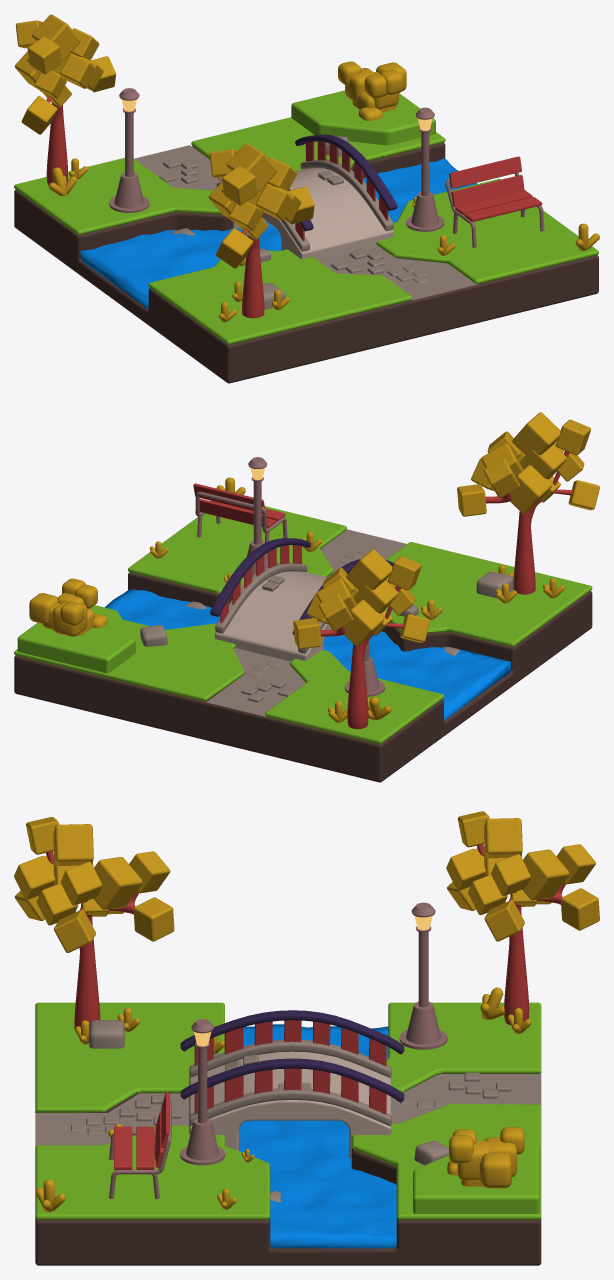
File: SunnyPark.glb
3 views of the same model, one above another, from view 1: azimuth 30°, elevation 25°; view 2: azimuth 150°, elevation 25°; view 3: azimuth 270°, elevation 25° (orthographic). The views are drawn at different scales.
Parts seen in each view (by area): view 1: Grass.001, Ground, Plane.004, Bridge, Plane, Grass.002, Bench, Bush.002, Lamp.001, Lamp, Plane.003, Tree (+21 smaller); view 2: Grass.001, Ground, Plane.004, Bridge, Plane, Grass.002, Bush.002, Tree, Tree.001, Bench, Plane.001, Cube.014 (+22 smaller); view 3: Grass.001, Ground, Plane.004, Plane, Bridge, Grass.002, Plane.002, Plane.001, Plane.003, Bush.002, Lamp.001, Lamp (+26 smaller).
Part boxes in pixels (x1,y1,x2,y2): Grass.001: [14, 117, 598, 344]; Ground: [14, 143, 598, 383]; Plane.004: [80, 158, 477, 309]; Bridge: [232, 168, 393, 259]; Plane: [134, 145, 479, 300]; Grass.002: [291, 90, 435, 145]; Bench: [449, 156, 542, 221]; Bush.002: [338, 61, 406, 120]; Lamp.001: [109, 88, 149, 212]; Lamp: [406, 107, 444, 231]; Plane.003: [216, 159, 393, 251]; Tree: [241, 210, 264, 318]; Grass.001: [14, 506, 592, 744]; Ground: [14, 572, 592, 782]; Plane.004: [105, 589, 510, 720]; Bridge: [215, 571, 331, 661]; Plane: [207, 529, 406, 717]; Grass.002: [17, 605, 135, 673]; Bush.002: [29, 578, 107, 636]; Tree: [485, 451, 572, 594]; Tree.001: [320, 586, 404, 729]; Bench: [193, 483, 285, 528]; Plane.001: [210, 538, 393, 634]; Cube.014: [512, 412, 560, 455]; Grass.001: [35, 1002, 541, 1219]; Ground: [35, 1093, 541, 1265]; Plane.004: [239, 1024, 396, 1248]; Plane: [35, 1072, 541, 1146]; Bridge: [189, 1051, 391, 1158]; Grass.002: [413, 1144, 539, 1213]; Plane.002: [194, 1020, 386, 1114]; Plane.001: [180, 1010, 404, 1102]; Plane.003: [189, 1040, 391, 1125]; Bush.002: [447, 1127, 524, 1188]; Lamp.001: [399, 902, 447, 1049]; Lamp: [180, 1019, 225, 1165].
Bounding box in the file's own units: 8.47 × 4.41 × 9.26.
